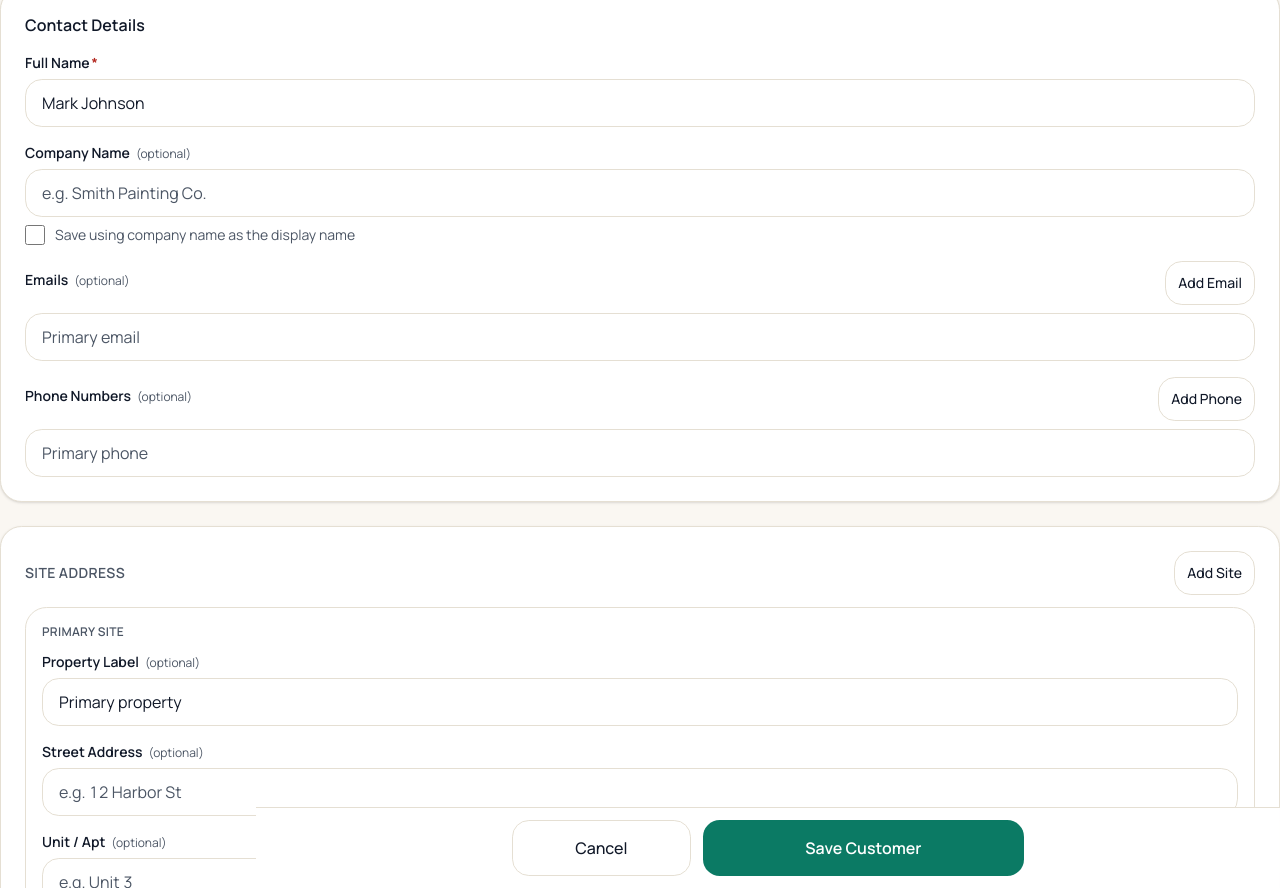
Test: CustomerForm › renders returned root save failures through the shared error alert
The width and height of the screenshot is (1280, 888).
Click the button "Save Customer" at (863, 848), box top-left (703, 820), bottom-right (1024, 876)
(page scrolled)
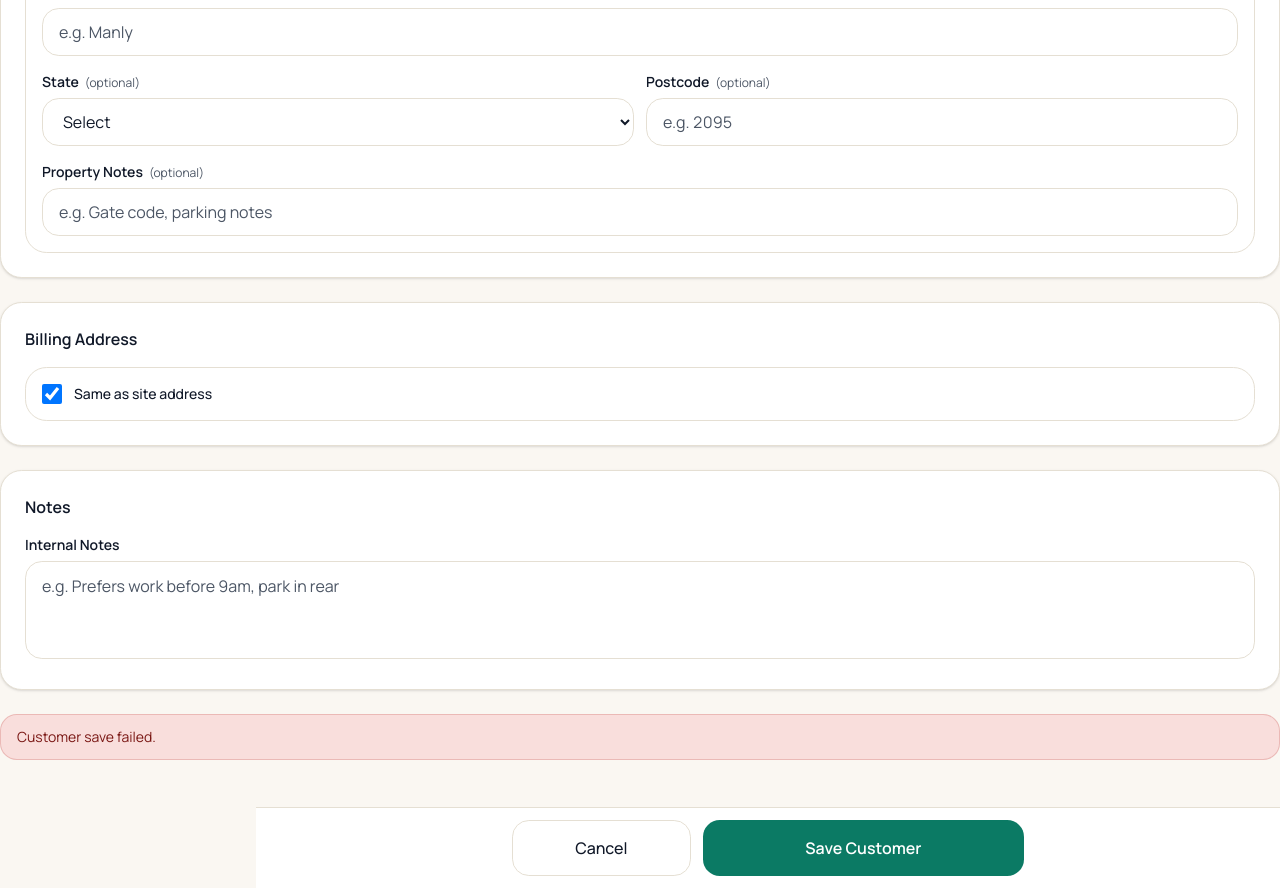
Result: the message reads "Customer save failed." at top-left (17, 727), bottom-right (156, 746)
